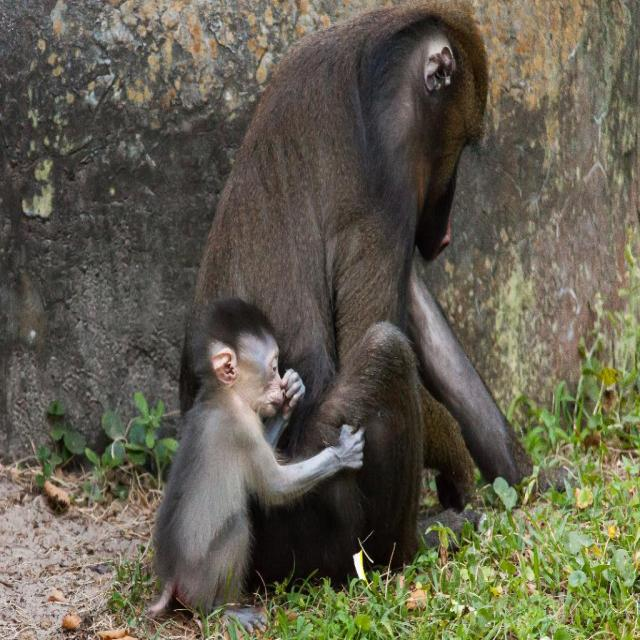Monkey: (179, 0, 536, 588), (150, 299, 364, 618)
